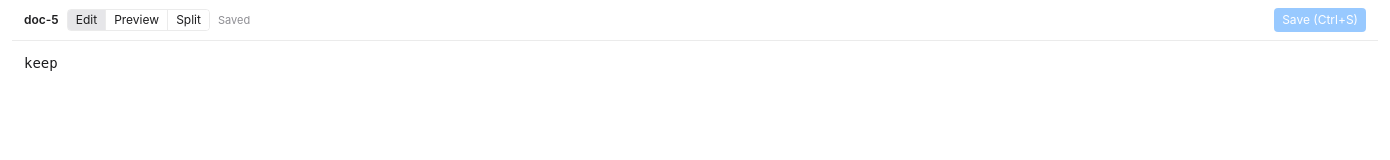
Scenario: MarkdownEditor Component › surfaces a save error without dropping the user source
The image size is (1390, 160).
Replace the text in the text box with "keep me" at (695, 73), box [12,41,1378,105]
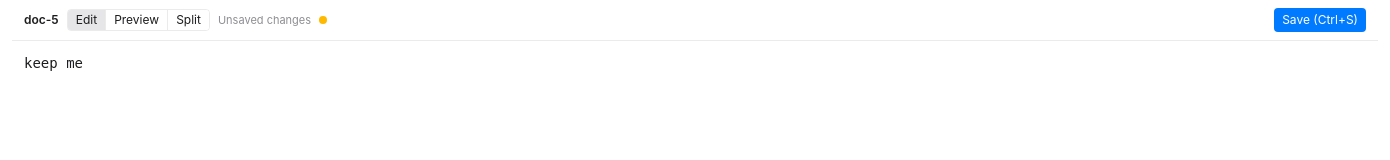
Click the button "Save (Ctrl+S)".
click(1320, 20)  # box [1274,8,1366,32]
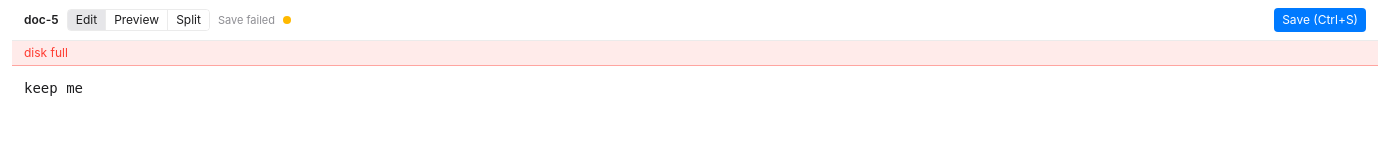
Expected: the message "disk full" is shown, [12,41,1378,66]
